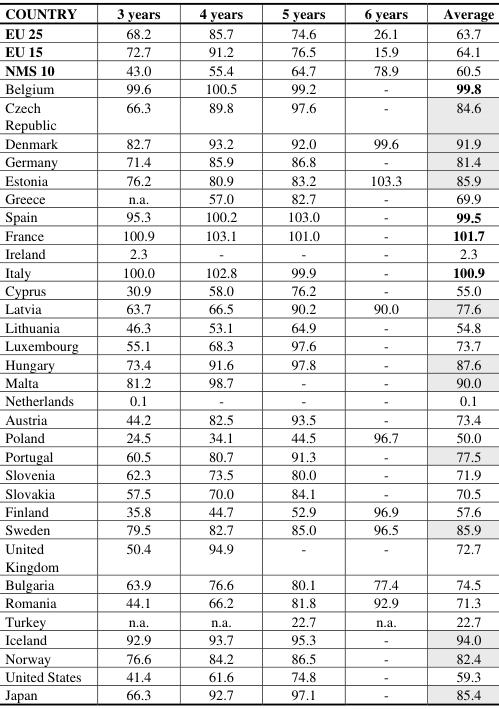table: (4, 3, 493, 703)
table column: (4, 3, 98, 703), (261, 3, 344, 703), (179, 3, 261, 703), (98, 3, 179, 703), (344, 3, 424, 703), (424, 3, 493, 703)
table column header: (4, 3, 493, 23)
table row: (4, 97, 493, 133), (4, 538, 493, 574), (4, 3, 493, 23), (4, 23, 493, 42), (4, 78, 493, 97), (4, 169, 493, 188), (4, 206, 493, 225), (4, 225, 493, 244), (4, 261, 493, 280), (4, 298, 493, 317), (4, 353, 493, 372), (4, 390, 493, 409), (4, 427, 493, 446), (4, 482, 493, 501), (4, 519, 493, 538), (4, 592, 493, 611), (4, 647, 493, 666), (4, 684, 493, 703), (4, 42, 493, 60), (4, 60, 493, 78), (4, 133, 493, 151), (4, 151, 493, 169), (4, 188, 493, 206), (4, 280, 493, 298), (4, 317, 493, 335), (4, 335, 493, 353), (4, 372, 493, 390), (4, 409, 493, 427), (4, 446, 493, 464), (4, 464, 493, 482), (4, 501, 493, 519), (4, 574, 493, 592), (4, 611, 493, 629), (4, 629, 493, 647), (4, 666, 493, 684), (4, 244, 493, 261)
